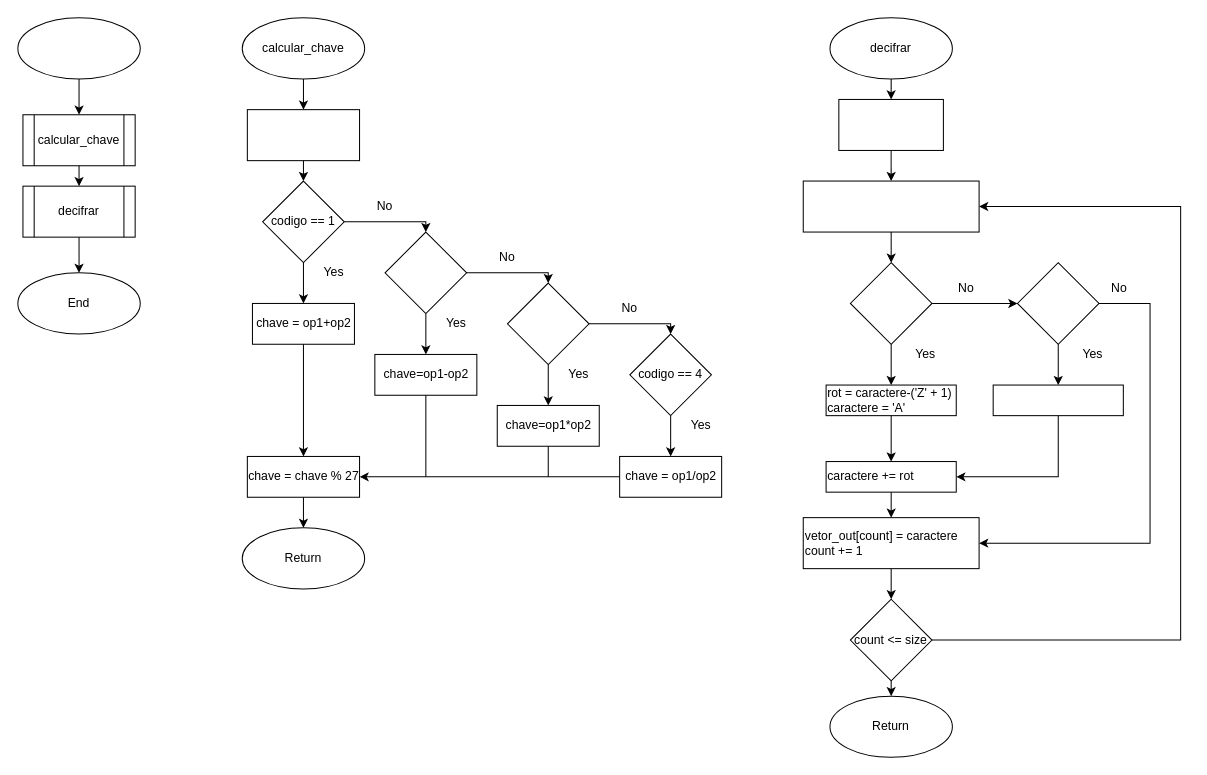
This 1207x775 diagram has some shape labels left out. The centre of each missing label's shape, as x and y in pixels:
Begin: point (78, 48)
caractere < 'A': point (1057, 303)
caractere = vetor_in[3 + count] caractere -= chave: point (890, 206)
caractere > 'Z': point (890, 303)
codigo == 2: point (425, 272)
codigo == 3: point (547, 323)
op1 = vetor_in[0] codigo = vetor_in[1] op2 = vetor_in[2]: point (303, 135)
rot = caractere-('A' - 1) caractere = 'Z': point (1057, 400)
size = vetor_in[3] vetor_out[0] = size count = 1: point (890, 124)
